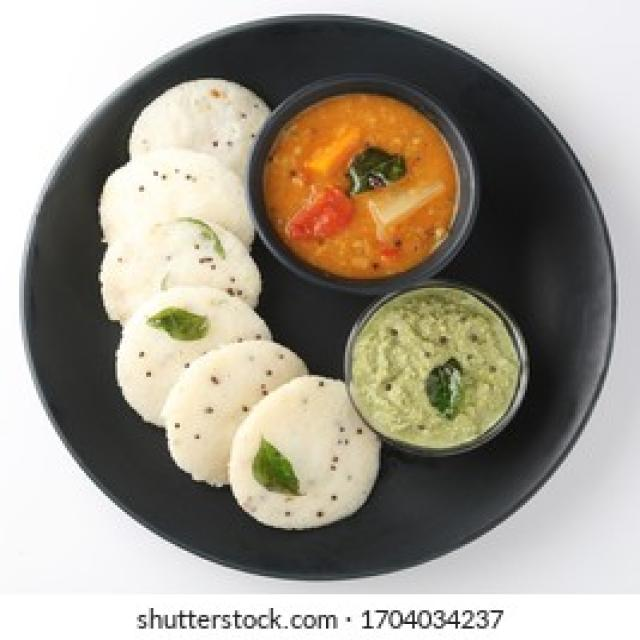IDLI: (230, 375, 379, 528), (117, 286, 268, 425), (163, 341, 304, 485), (101, 219, 259, 322), (101, 151, 252, 245), (129, 78, 268, 178)
